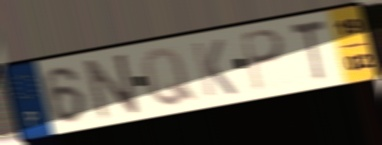6: (41, 64, 89, 126)
K: (189, 37, 240, 100)
N: (82, 50, 144, 123)
P: (238, 27, 288, 94)
Q: (139, 45, 200, 109)
T: (287, 16, 329, 84)
